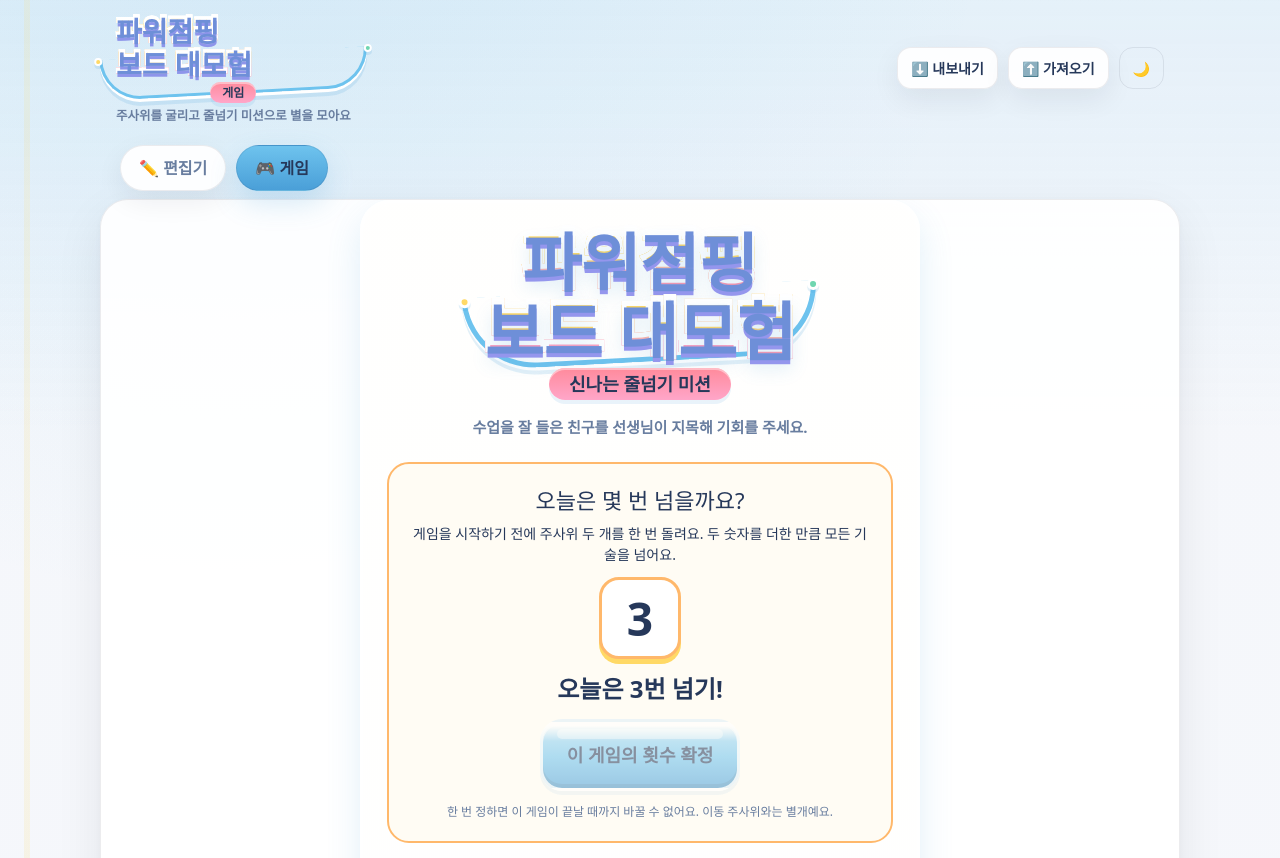
it: 편집기 ⚙️ 설정 탭 (D-23) › ⚙️ 설정 탭을 누르면 게임 설정 화면이 보이고 미션 목록은 사라진다
Click the button "✏️ 편집기". click: [173, 168]
box: [120,145,226,191]
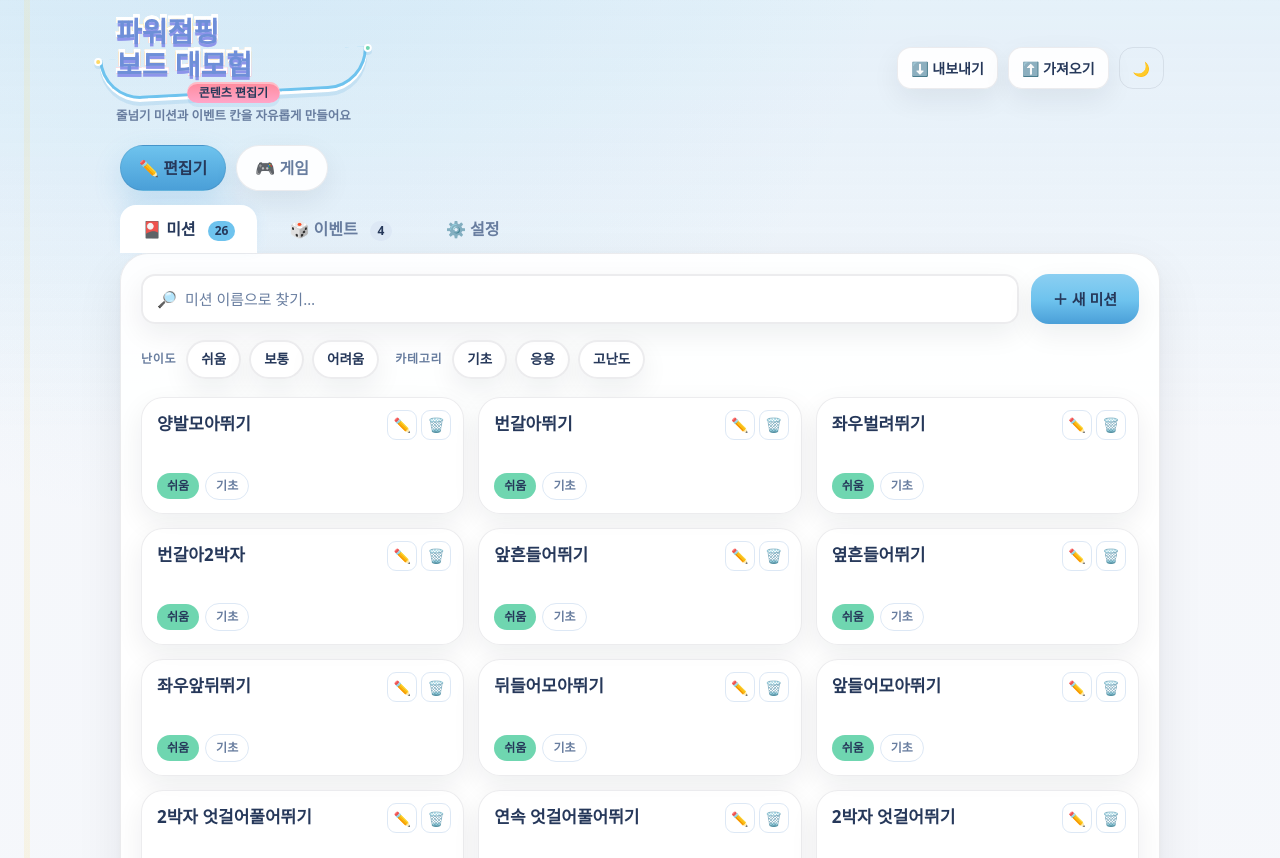
Now the text "양발모아뛰기" is shown, box [157,412,251,434]
Click the tab "⚙️ 설정". click: [473, 229]
box: [424,205,522,253]
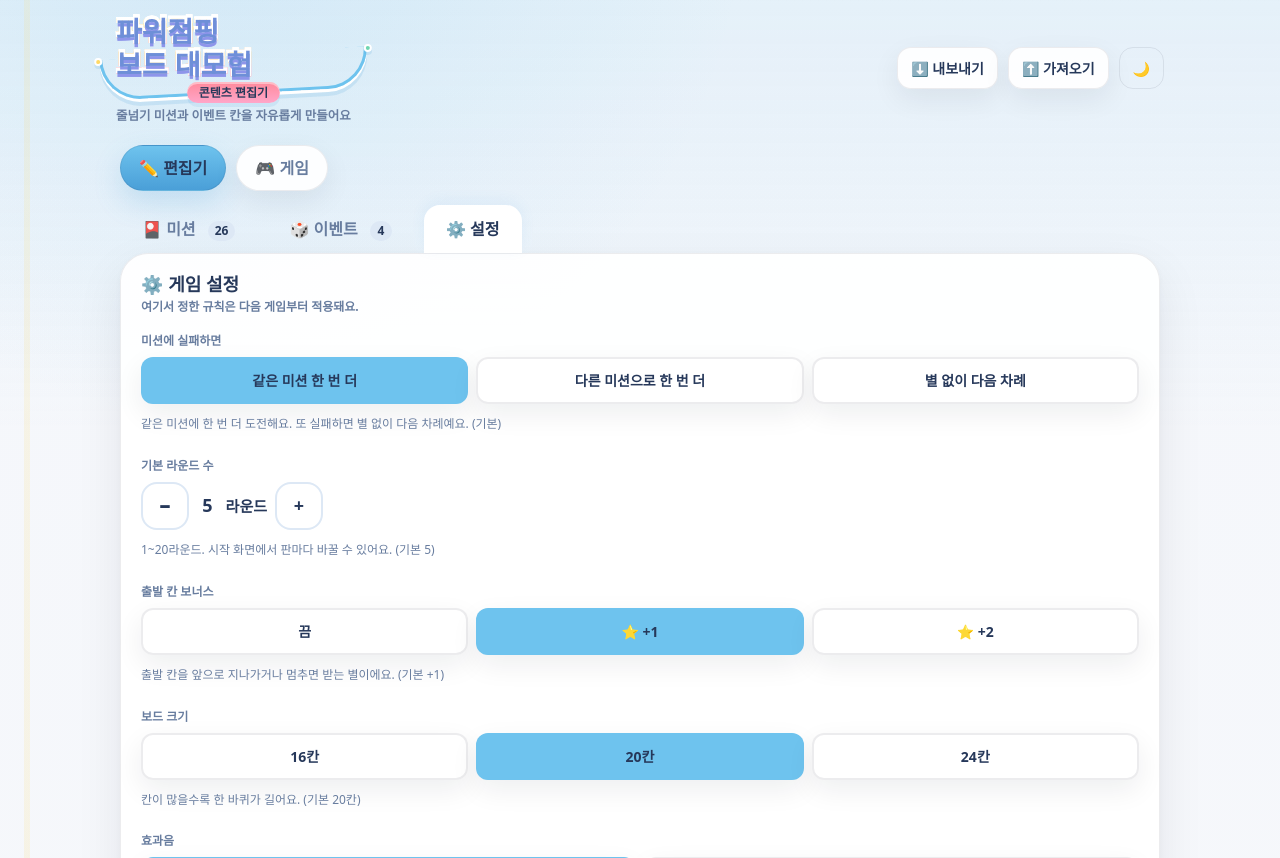
Now the heading "⚙️ 게임 설정" is shown, box [141,272,239,296]
Now the text "양발모아뛰기" is gone
